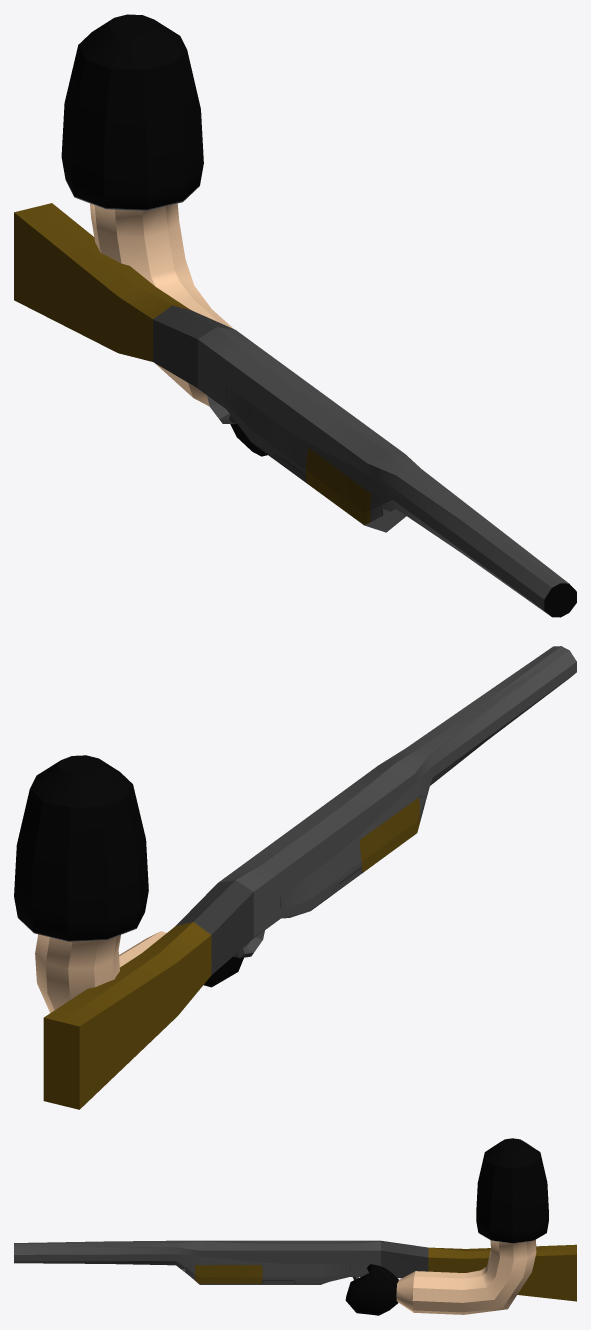
File: sg_ojosama_L_b.obj
The picture shows the model from 3 angles, top to bottom: view 1: azimuth 30°, elevation 25°; view 2: azimuth 150°, elevation 25°; view 3: azimuth 270°, elevation 25°; orthographic projection. The views are drawn at different scales.
Parts seen in each view (by area): view 1: L pasted__pCylinder1 pasted__group1 group6, pCylinder4 group5 L L; view 2: L pasted__pCylinder1 pasted__group1 group6, pCylinder4 group5 L L; view 3: L pasted__pCylinder1 pasted__group1 group6, pCylinder4 group5 L L, group5 L L pasted__pCube3.
Part boxes in pixels (left/top/right/bottom): L pasted__pCylinder1 pasted__group1 group6: left=14, top=203, right=576, bottom=617; pCylinder4 group5 L L: left=61, top=14, right=233, bottom=406; L pasted__pCylinder1 pasted__group1 group6: left=43, top=646, right=576, bottom=1109; pCylinder4 group5 L L: left=14, top=755, right=166, bottom=1012; L pasted__pCylinder1 pasted__group1 group6: left=14, top=1240, right=576, bottom=1301; pCylinder4 group5 L L: left=396, top=1138, right=548, bottom=1314; group5 L L pasted__pCube3: left=345, top=1264, right=398, bottom=1315.
Size of the model in its own units: 0.2246 by 0.5598 by 1.66.
Materials: 1 (1 with a texture image).
